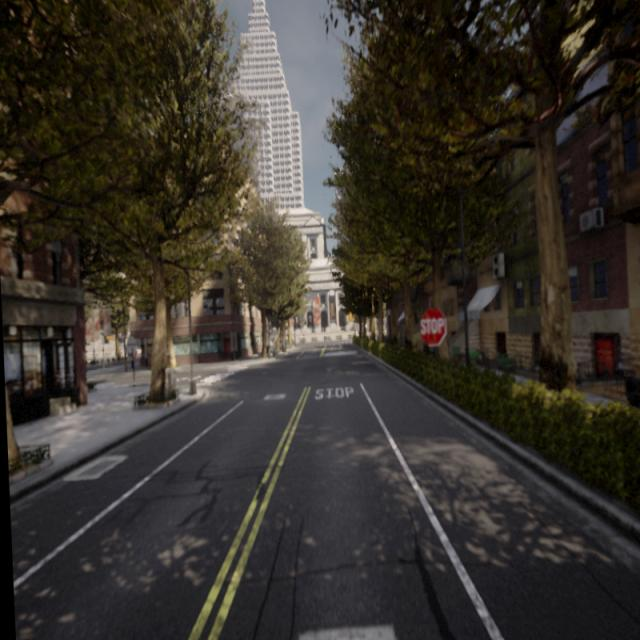stop sign: (417, 304, 448, 349)
